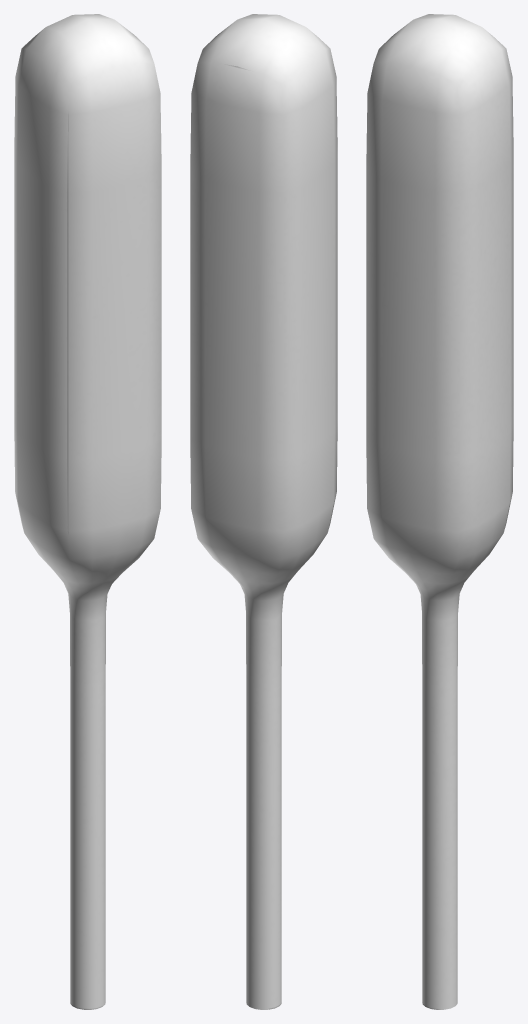
Rendered from cattail_a_00.obj.
The picture shows the model from 3 angles, left to right: view 1: azimuth 30°, elevation 25°; view 2: azimuth 150°, elevation 25°; view 3: azimuth 330°, elevation 25°; orthographic projection.
Bounding box in the file's own units: 0.2506 × 2.1 × 0.2506.
